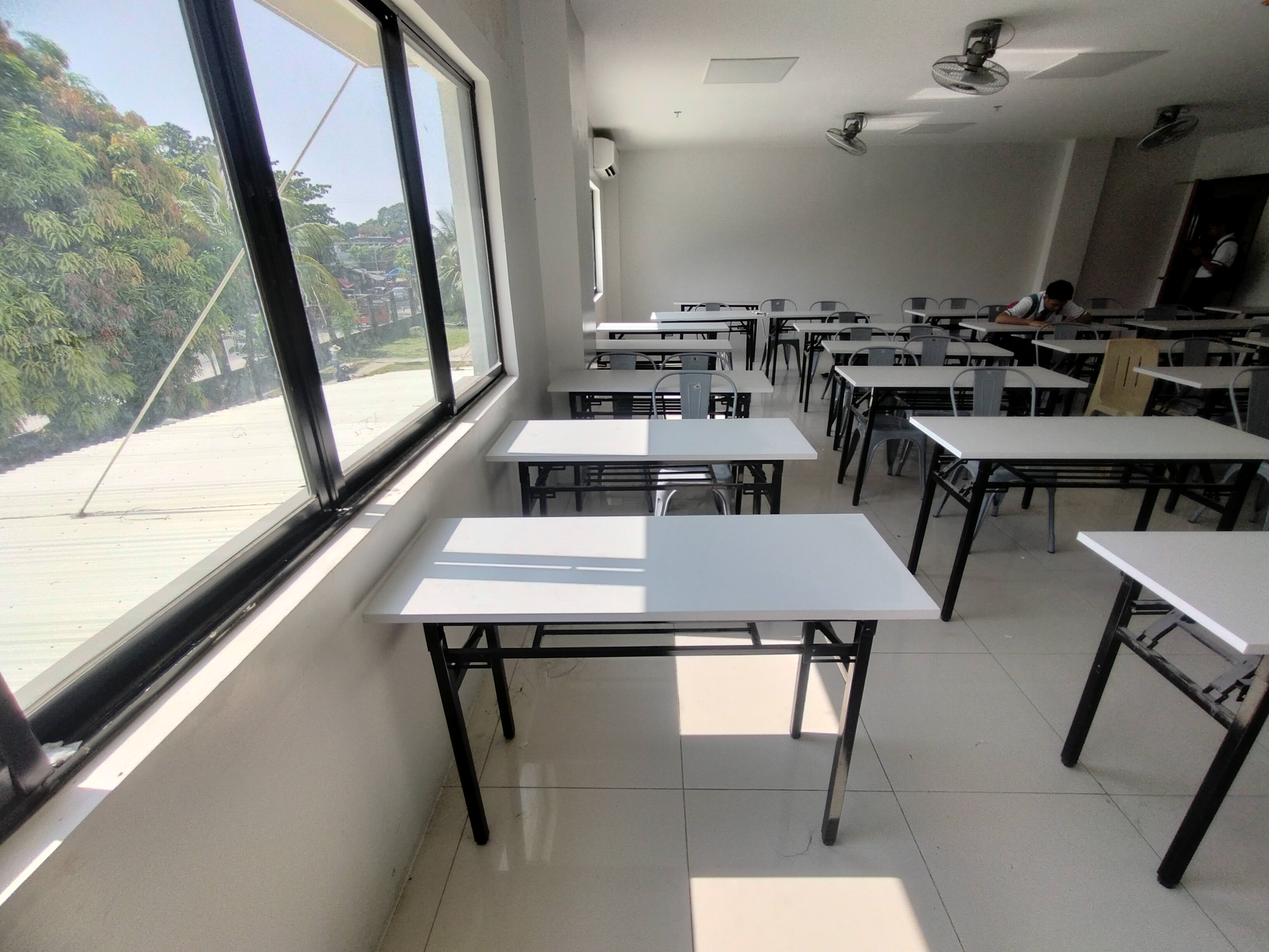with-student: (953, 279, 1128, 342)
